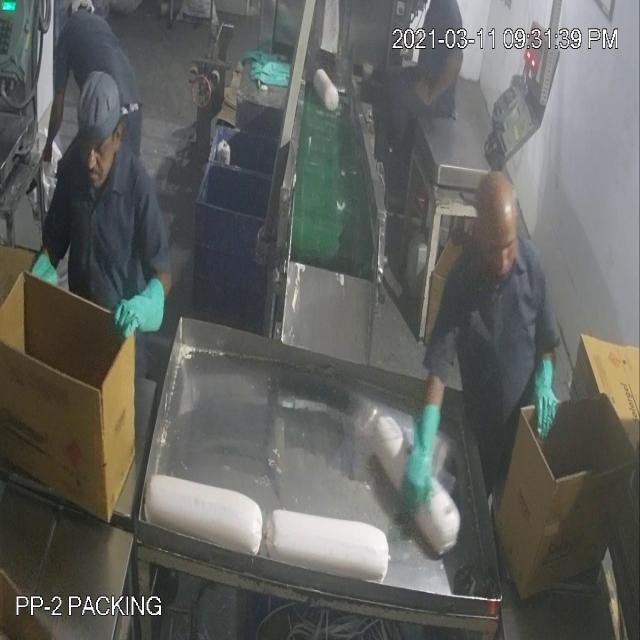gloves: (387, 402, 455, 535), (525, 329, 563, 454)
no-gloves: (408, 49, 473, 114)
